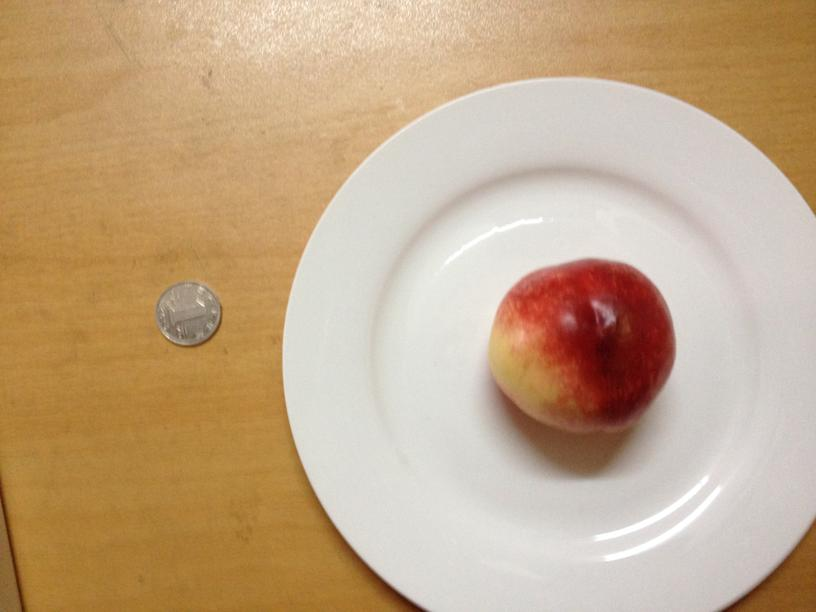coin: (154, 278, 224, 347)
peach: (485, 259, 676, 434)
